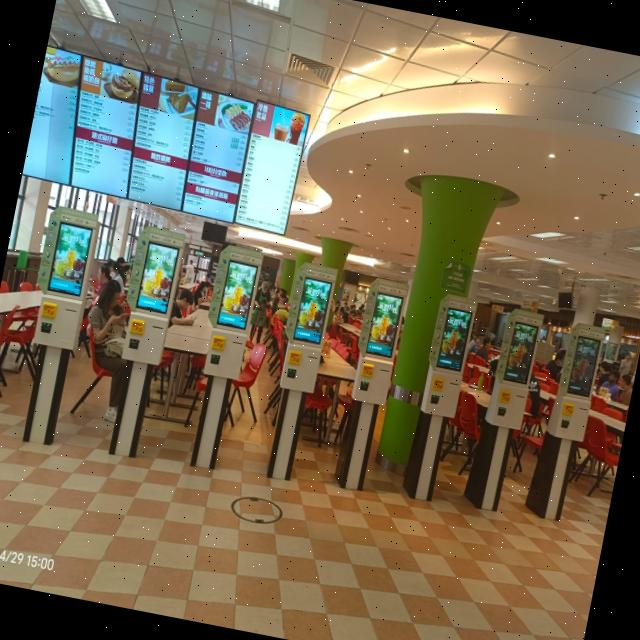orderKiosk: (24, 212, 100, 352), (116, 234, 186, 368), (192, 248, 262, 382), (278, 266, 337, 392), (350, 287, 406, 407), (422, 302, 476, 422), (550, 331, 604, 444), (489, 314, 541, 426)
